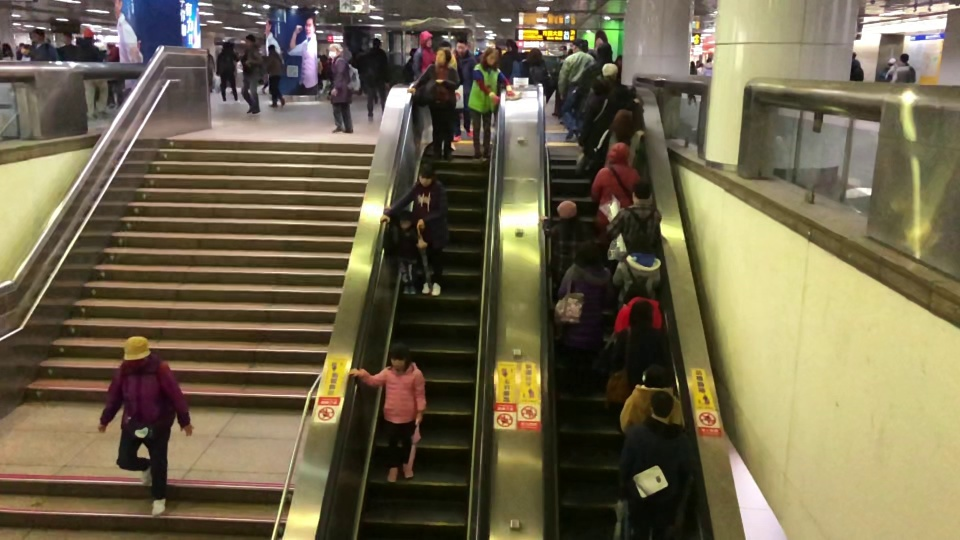person_head: (120, 335, 152, 368), (648, 389, 675, 424), (639, 364, 671, 390), (621, 279, 649, 308), (608, 107, 635, 136), (575, 240, 602, 269), (628, 300, 655, 329), (605, 140, 632, 168), (387, 342, 412, 371), (629, 230, 652, 256), (631, 178, 652, 206), (555, 199, 578, 224), (590, 75, 613, 96), (416, 162, 435, 187), (594, 41, 613, 64), (435, 45, 452, 69), (418, 29, 434, 50), (600, 62, 619, 79), (398, 209, 413, 230), (484, 46, 499, 67), (326, 42, 343, 60), (29, 27, 45, 43), (82, 26, 95, 45), (456, 36, 468, 56), (504, 36, 518, 52), (527, 48, 543, 61), (572, 37, 584, 53), (62, 31, 73, 46), (244, 34, 256, 47), (370, 36, 382, 49), (898, 53, 910, 64), (886, 57, 897, 67), (267, 43, 276, 54), (559, 45, 568, 56), (222, 40, 232, 49), (850, 50, 857, 62)
person_vbox: (95, 334, 195, 517), (616, 391, 694, 540), (348, 341, 427, 482), (380, 162, 450, 296), (555, 238, 613, 395), (407, 45, 462, 161), (609, 300, 670, 398), (467, 46, 516, 162), (576, 75, 640, 163), (604, 181, 663, 266), (619, 363, 686, 436), (589, 142, 641, 232), (540, 200, 590, 288), (569, 41, 622, 119), (611, 230, 662, 311), (557, 39, 597, 142), (325, 42, 362, 134), (383, 205, 419, 296), (77, 26, 110, 121), (451, 36, 479, 142), (594, 110, 645, 168), (613, 280, 663, 335), (360, 38, 392, 118), (239, 34, 265, 115), (214, 41, 242, 103), (263, 43, 286, 109), (550, 45, 569, 116), (498, 38, 526, 84), (412, 30, 437, 81), (520, 47, 548, 85), (28, 27, 58, 61), (885, 53, 916, 83), (56, 29, 78, 61), (876, 56, 898, 83), (849, 49, 865, 81)
